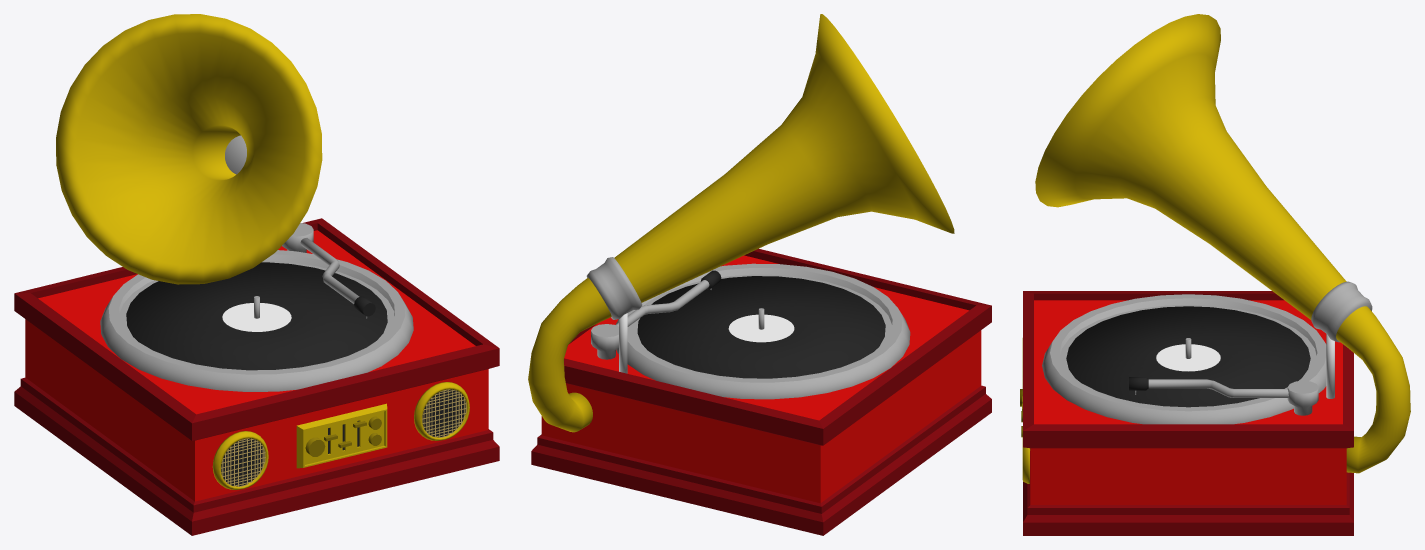
The model's file is Record_Player.fbx.
3 views of the same model, side by side, from view 1: azimuth 30°, elevation 25°; view 2: azimuth 150°, elevation 25°; view 3: azimuth 270°, elevation 25° (orthographic). The views are drawn at different scales.
Parts seen in each view (by area): view 1: Cylinder.003, Cube, Cylinder.002, Cube.002, Cube.001, Cylinder, Cylinder.012, Cylinder.011, Cube.006, Cube.004, Cylinder.007, Cylinder.004; view 2: Cylinder.003, Cube, Cylinder.002, Cube.001, Cube.002, Cylinder, Cylinder.004, Cylinder.007, Cylinder.006; view 3: Cylinder.003, Cube, Cylinder.002, Cube.002, Cube.001, Cylinder, Cylinder.004, Cylinder.007, Cylinder.006, Cylinder.005.
Part boxes in pixels (x1,y1,x2,y2): Cylinder.003: [56, 14, 322, 284]; Cube: [25, 230, 488, 501]; Cylinder.002: [126, 262, 387, 370]; Cube.002: [14, 218, 499, 440]; Cube.001: [14, 377, 499, 535]; Cylinder: [100, 250, 413, 391]; Cylinder.012: [212, 431, 268, 489]; Cylinder.011: [414, 382, 469, 440]; Cube.006: [305, 411, 384, 464]; Cube.004: [296, 403, 387, 468]; Cylinder.007: [300, 238, 375, 316]; Cylinder.004: [225, 135, 246, 174]; Cylinder.003: [528, 14, 954, 432]; Cube: [541, 255, 981, 503]; Cylinder.002: [637, 276, 885, 378]; Cube.001: [531, 385, 991, 535]; Cube.002: [564, 248, 991, 445]; Cylinder: [616, 263, 910, 399]; Cylinder.004: [586, 257, 642, 319]; Cylinder.007: [616, 270, 721, 326]; Cylinder.006: [591, 324, 618, 359]; Cylinder.003: [1035, 14, 1410, 473]; Cube: [1030, 300, 1346, 504]; Cylinder.002: [1066, 306, 1310, 407]; Cube.002: [1023, 291, 1353, 448]; Cube.001: [1023, 451, 1353, 535]; Cylinder: [1042, 294, 1326, 424]; Cylinder.004: [1311, 281, 1372, 342]; Cylinder.007: [1129, 377, 1288, 397]; Cylinder.006: [1287, 380, 1318, 415]; Cylinder.005: [1326, 334, 1334, 398].
Size of the model in its own units: 334 by 406 by 348.
